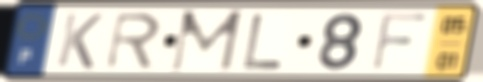8: (317, 11, 364, 72)
F: (368, 11, 432, 73)
K: (53, 10, 107, 72)
L: (239, 12, 287, 71)
M: (167, 8, 247, 75)
R: (103, 10, 165, 72)
